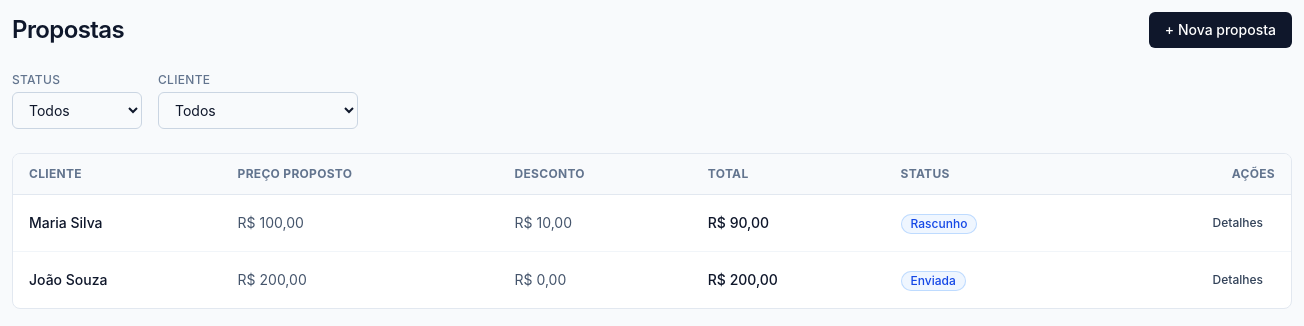
ProposalsPage › filters › filters the table by customer, showing names not raw ids
Select "Maria Silva" in the dropdown labelled "Cliente": point(258, 110) top-left (158, 92), bottom-right (358, 129)
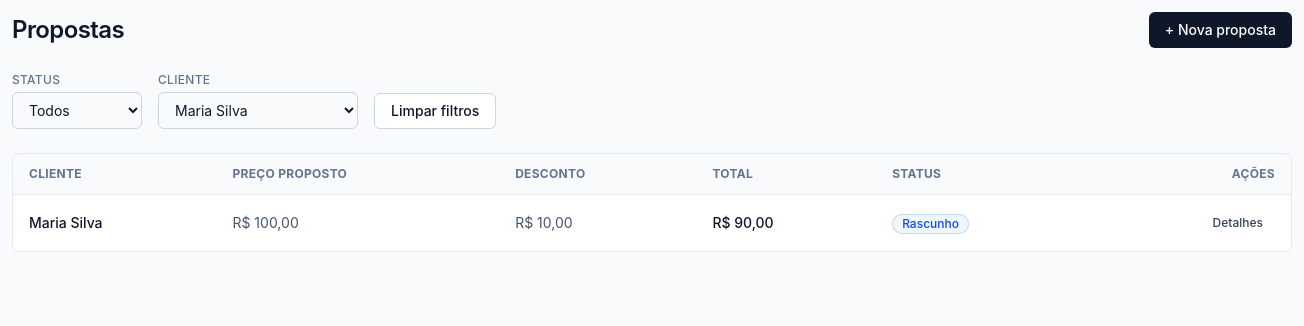
Result: the text "João Souza" is gone
